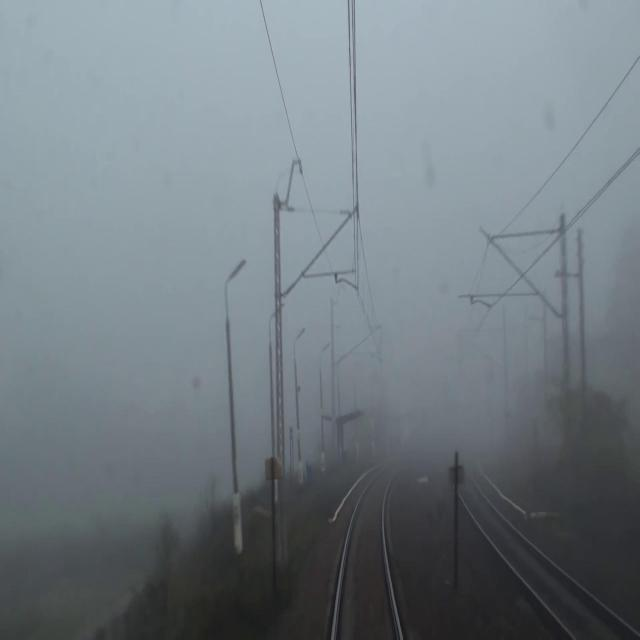rail-track: (459, 479, 634, 639), (335, 469, 397, 639)
